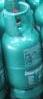cylinder: (1, 1, 43, 99)
